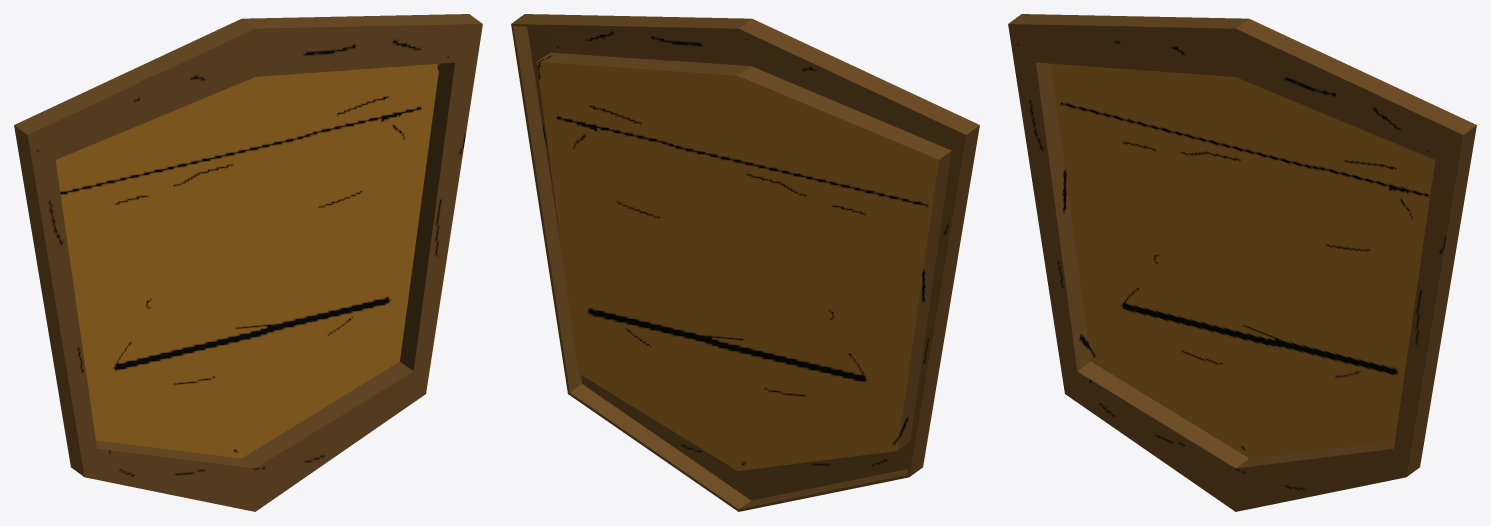
File: shield_wooden.glb
The picture shows the model from 3 angles, left to right: view 1: azimuth 30°, elevation 25°; view 2: azimuth 150°, elevation 25°; view 3: azimuth 330°, elevation 25°; orthographic projection.
Visible parts, largest first — view 1: Plane; view 2: Plane; view 3: Plane.
Part boxes in pixels (x1=…): Plane: x1=14, y1=14, x2=482, y2=511; Plane: x1=511, y1=14, x2=979, y2=511; Plane: x1=1008, y1=14, x2=1476, y2=511.
Bounding box in the file's own units: 1.87 × 1.9 × 0.104.
Materials: 1 (1 with a texture image).
